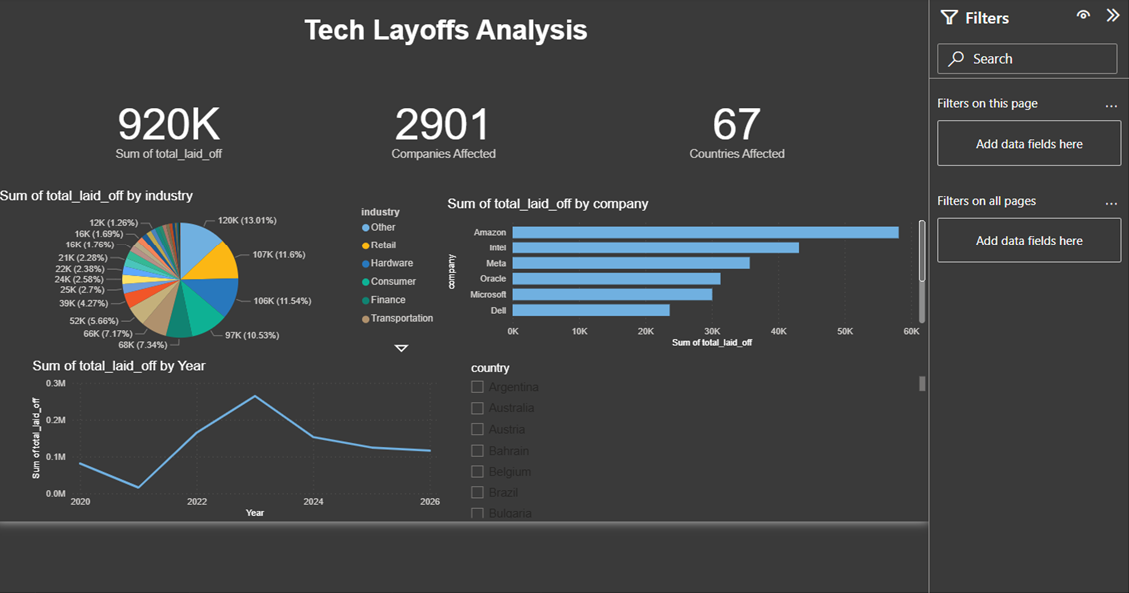

The page's visual inventory and layout, read from the dashboard file:
{"tool":"powerbi","page":{"name":"Tech Layoffs Analysis","canvas":[1280,720],"ordinal":0},"visuals":[{"type":"card","fields":{"Values":["Sum(layoffs_clean.total_laid_off)"]},"box":[0,93.3,474.8,167.4],"z":0},{"type":"card","fields":{"Values":["Count(layoffs_clean.company)"]},"box":[474.8,93.3,279.9,167.4],"z":1},{"type":"card","fields":{"Values":["Count(layoffs_clean.country)"]},"box":[754.7,93.3,525.6,167.4],"z":2},{"type":"clusteredBarChart","fields":{"Category":["layoffs_clean.company"],"Y":["Sum(layoffs_clean.total_laid_off)"]},"box":[614.8,271.7,665.5,214.1],"z":3},{"type":"pieChart","fields":{"Category":["layoffs_clean.industry"],"Y":["Sum(layoffs_clean.total_laid_off)"]},"box":[0,260.7,614.8,234.6],"z":4},{"type":"lineChart","fields":{"Category":["layoffs_clean.date.Variation.Date Hierarchy.Year"],"Y":["Sum(layoffs_clean.total_laid_off)"]},"box":[45.3,495.4,569.5,225],"z":5},{"type":"slicer","fields":{"Values":["layoffs_clean.country"]},"box":[639.5,495.4,640.8,225],"z":6},{"type":"textbox","box":[100.2,17.8,1034.7,75.5],"z":7}]}

Visuals, with their boxes on the page's 1280x720 design canvas (x1, y1, x2, y2). These are canvas units, not pixel positions in the 1129x593 screenshot, which may show the page scaled, cropped or inside an application window:
card - Sum(layoffs_clean.total_laid_off): region(0, 93, 475, 261)
card - Count(layoffs_clean.company): region(475, 93, 755, 261)
card - Count(layoffs_clean.country): region(755, 93, 1280, 261)
clusteredBarChart - layoffs_clean.company x Sum(layoffs_clean.total_laid_off): region(615, 272, 1280, 486)
pieChart - layoffs_clean.industry x Sum(layoffs_clean.total_laid_off): region(0, 261, 615, 495)
lineChart - layoffs_clean.date.Variation.Date Hierarchy.Year x Sum(layoffs_clean.total_laid_off): region(45, 495, 615, 720)
slicer - layoffs_clean.country: region(640, 495, 1280, 720)
textbox: region(100, 18, 1135, 93)
